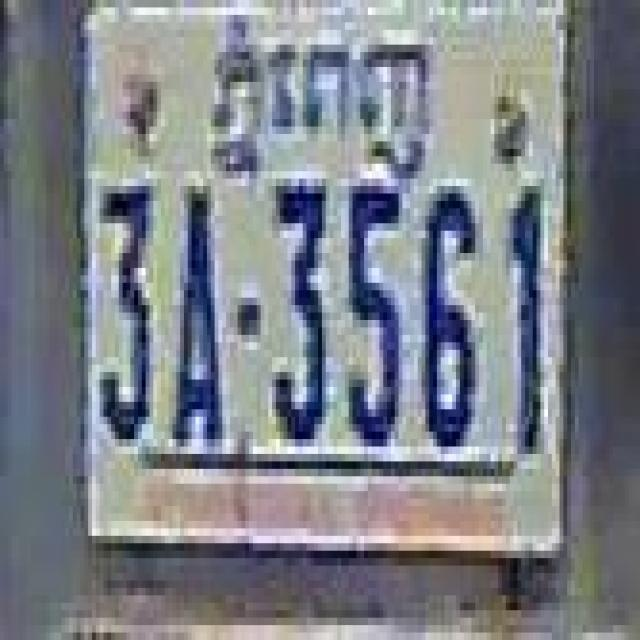Phnom_Penh: (211, 30, 434, 173)
